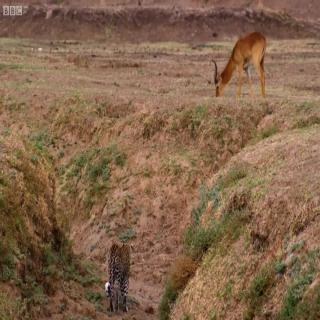Leopard: (101, 222, 138, 320)
